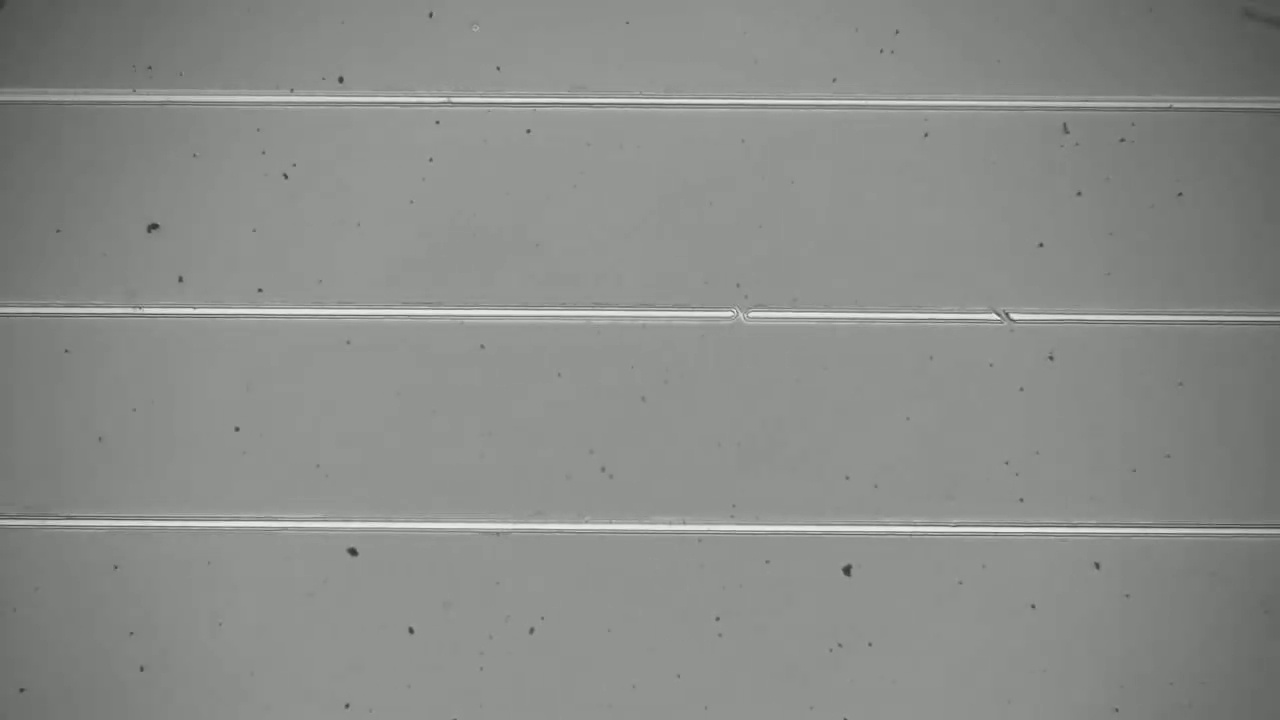open: (978, 295, 1027, 333), (722, 293, 767, 331)
